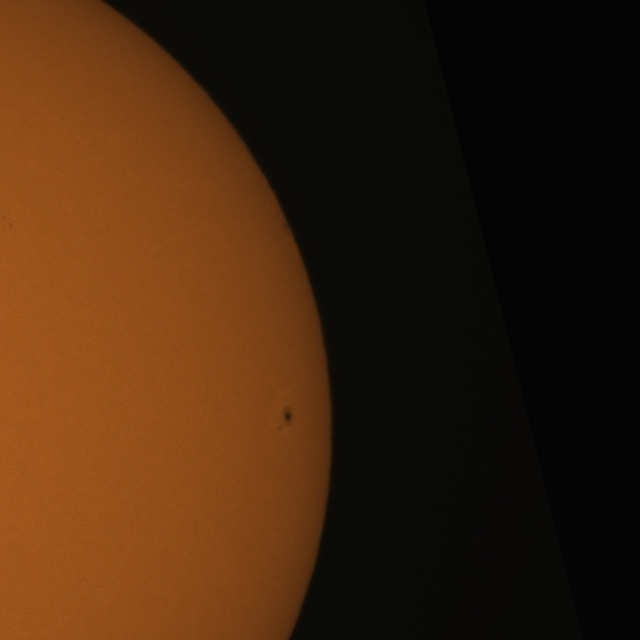sunspot: (277, 408, 294, 433)
